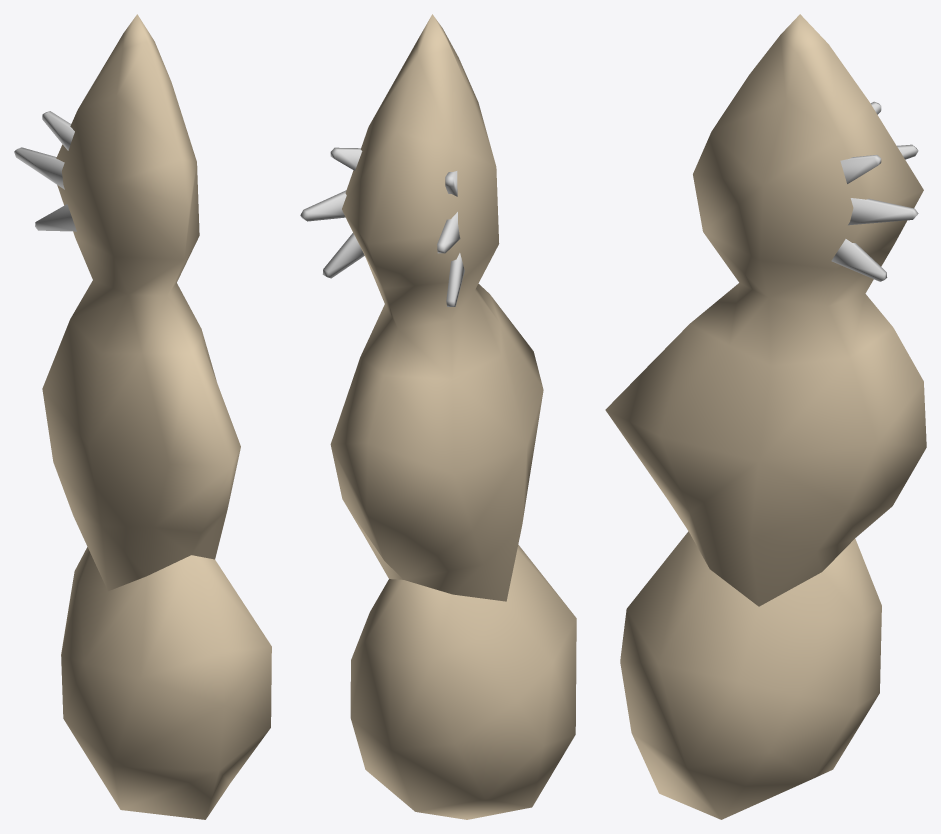
The model's file is S12_Bird06_L2_Tail.glb.
The picture shows the model from 3 angles, left to right: view 1: azimuth 30°, elevation 25°; view 2: azimuth 150°, elevation 25°; view 3: azimuth 270°, elevation 25°; orthographic projection. The views are drawn at different scales.
Parts seen in each view (by area): view 1: S12_Bird06_L2_Tail__Tail_M__surface0__lod0; view 2: S12_Bird06_L2_Tail__Tail_M__surface0__lod0; view 3: S12_Bird06_L2_Tail__Tail_M__surface0__lod0.
Boxes of the visible parts, left/top/right/bottom form: S12_Bird06_L2_Tail__Tail_M__surface0__lod0: left=14, top=14, right=271, bottom=819; S12_Bird06_L2_Tail__Tail_M__surface0__lod0: left=300, top=14, right=576, bottom=819; S12_Bird06_L2_Tail__Tail_M__surface0__lod0: left=605, top=14, right=926, bottom=819.
Size of the model in its own units: 13.77 by 57.42 by 20.92.
